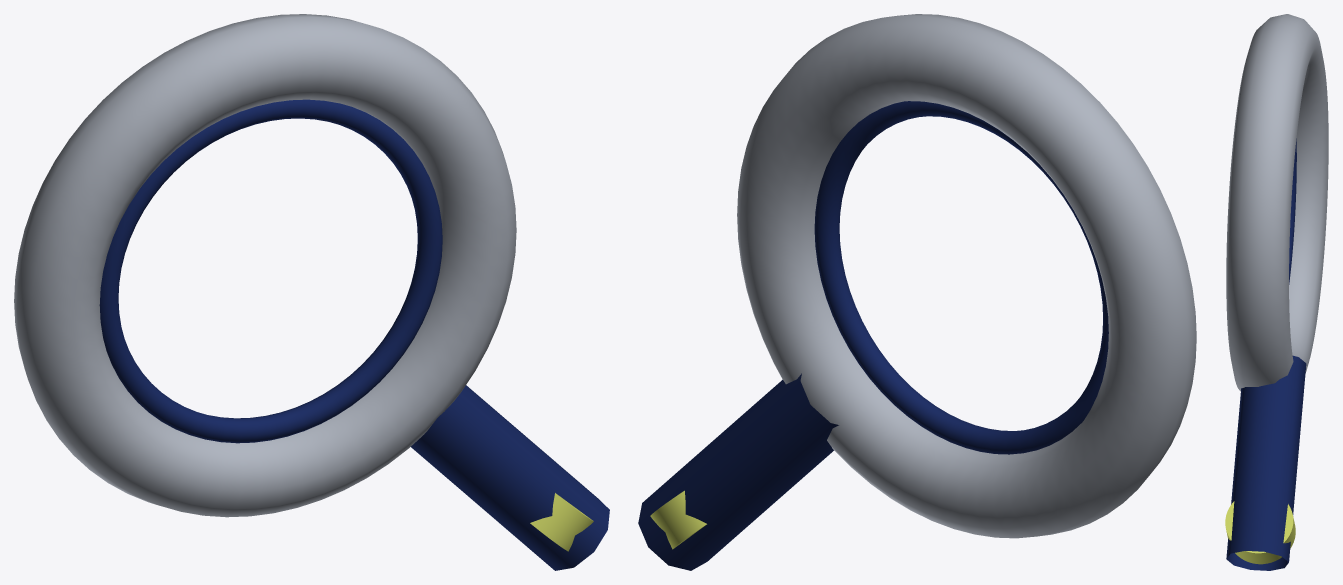
3 views of the same model, side by side, from view 1: azimuth 30°, elevation 25°; view 2: azimuth 150°, elevation 25°; view 3: azimuth 270°, elevation 25° (orthographic). The views are drawn at different scales.
Visible parts, largest first — view 1: rounded metal arc (×2), magnifier handle, metal barrel; view 2: rounded metal arc (×2), magnifier handle, metal barrel; view 3: rounded metal arc (×2), magnifier handle, metal barrel.
Part boxes in pixels (box(x1,y1,x2,y2)): rounded metal arc (×2): box(14, 14, 516, 517); magnifier handle: box(411, 385, 609, 570); metal barrel: box(530, 493, 593, 551); rounded metal arc (×2): box(737, 14, 1196, 538); magnifier handle: box(638, 373, 838, 570); metal barrel: box(650, 490, 706, 549); rounded metal arc (×2): box(1226, 14, 1328, 391); magnifier handle: box(1226, 355, 1306, 570); metal barrel: box(1225, 501, 1295, 564).
Size of the model in its own units: 1.79 by 1.85 by 0.3929.
